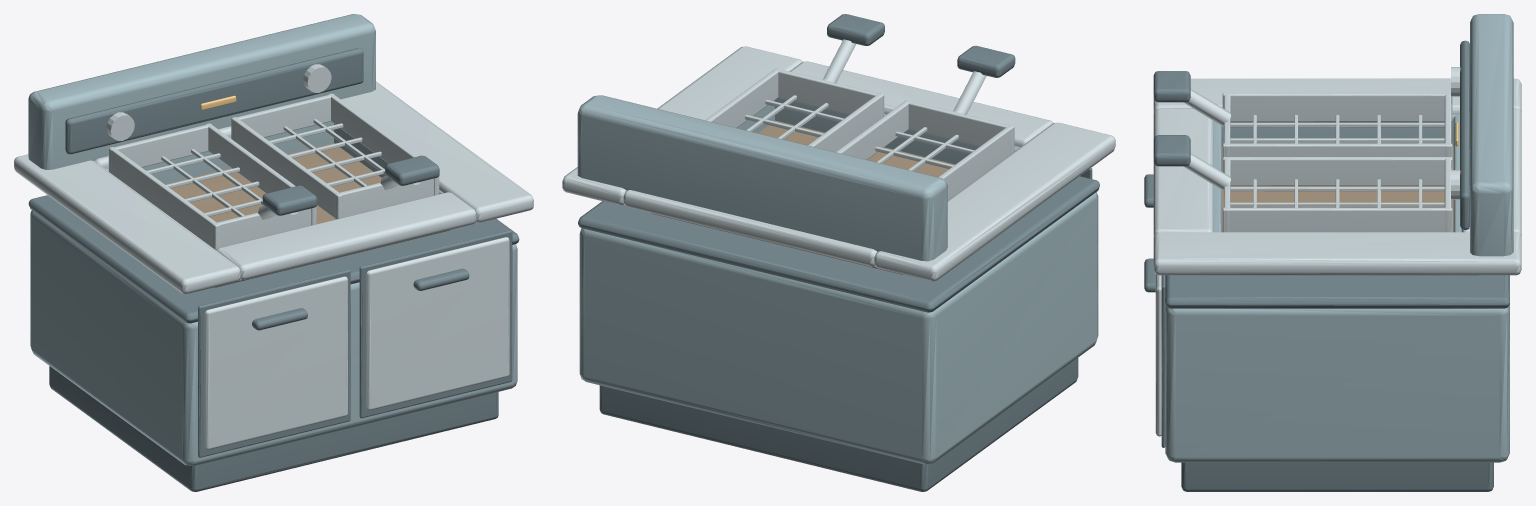
Rendered from Fryer.fbx.
3 renders of one model, left to right at view 1: azimuth 30°, elevation 25°; view 2: azimuth 150°, elevation 25°; view 3: azimuth 270°, elevation 25°, orthographic. The views are drawn at different scales.
Parts seen in each view (by area): view 1: Fryer.001; view 2: Fryer.001; view 3: Fryer.001.
Part boxes in pixels (x1,y1,x2,y2): Fryer.001: (14, 14, 533, 491); Fryer.001: (562, 14, 1115, 491); Fryer.001: (1144, 14, 1521, 491).
Size of the model in its own units: 1.9 by 1.52 by 1.64.
